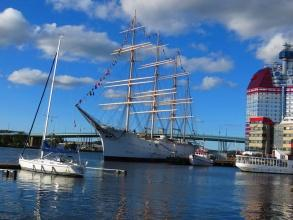fanchuan: (88, 20, 213, 154)
otherboat: (17, 149, 91, 176), (231, 150, 293, 172)
